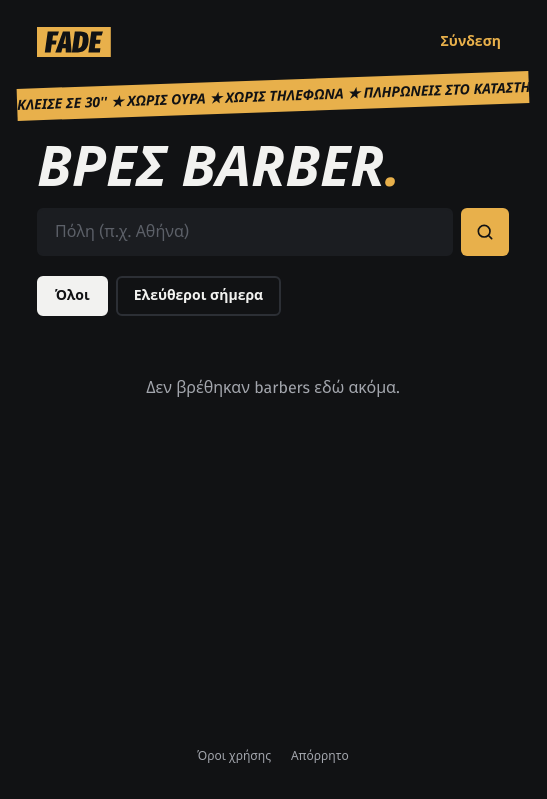
links to the terms and privacy policy from every page
Click the link "Απόρρητο": {"x": 320, "y": 756} top-left (291, 749), bottom-right (349, 763)
(page scrolled)
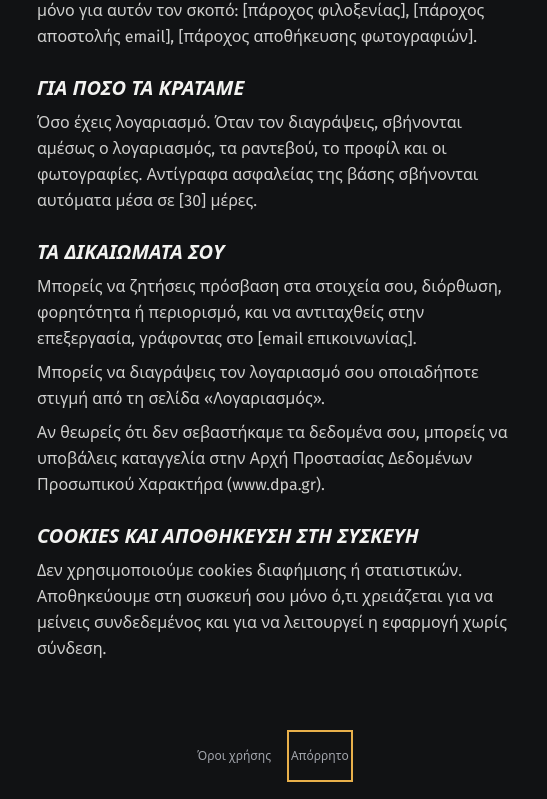
Expected: the text "Αρχή Προστασίας Δεδομένων" is shown, top-left (37, 422), bottom-right (508, 494)
